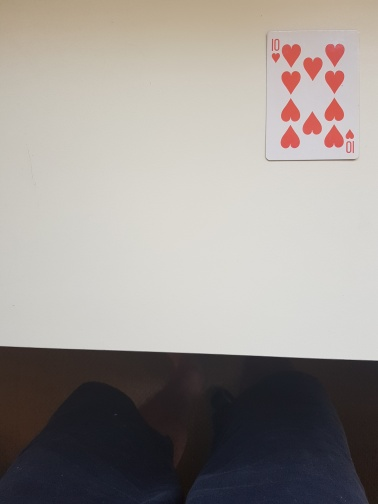ten: (265, 30, 359, 162)
